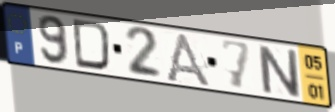2: (123, 25, 164, 78)
7: (220, 37, 253, 93)
9: (36, 14, 71, 67)
A: (162, 32, 214, 90)
D: (70, 17, 113, 73)
N: (255, 42, 304, 100)
